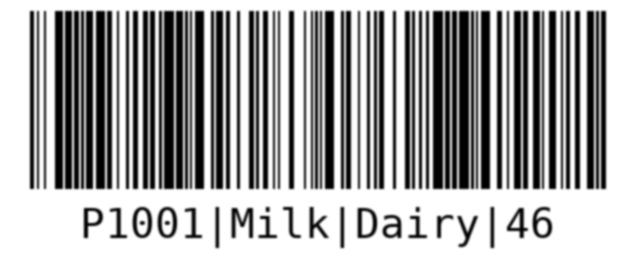milk: (22, 6, 610, 255)
